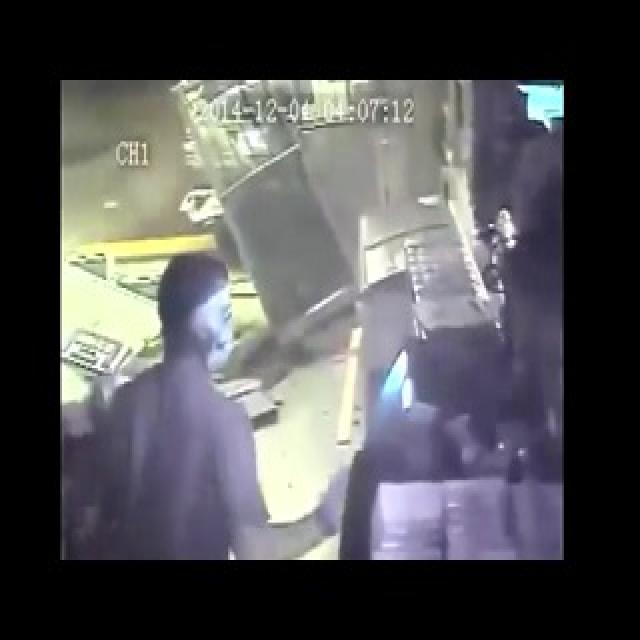thief: (146, 228, 255, 417)
